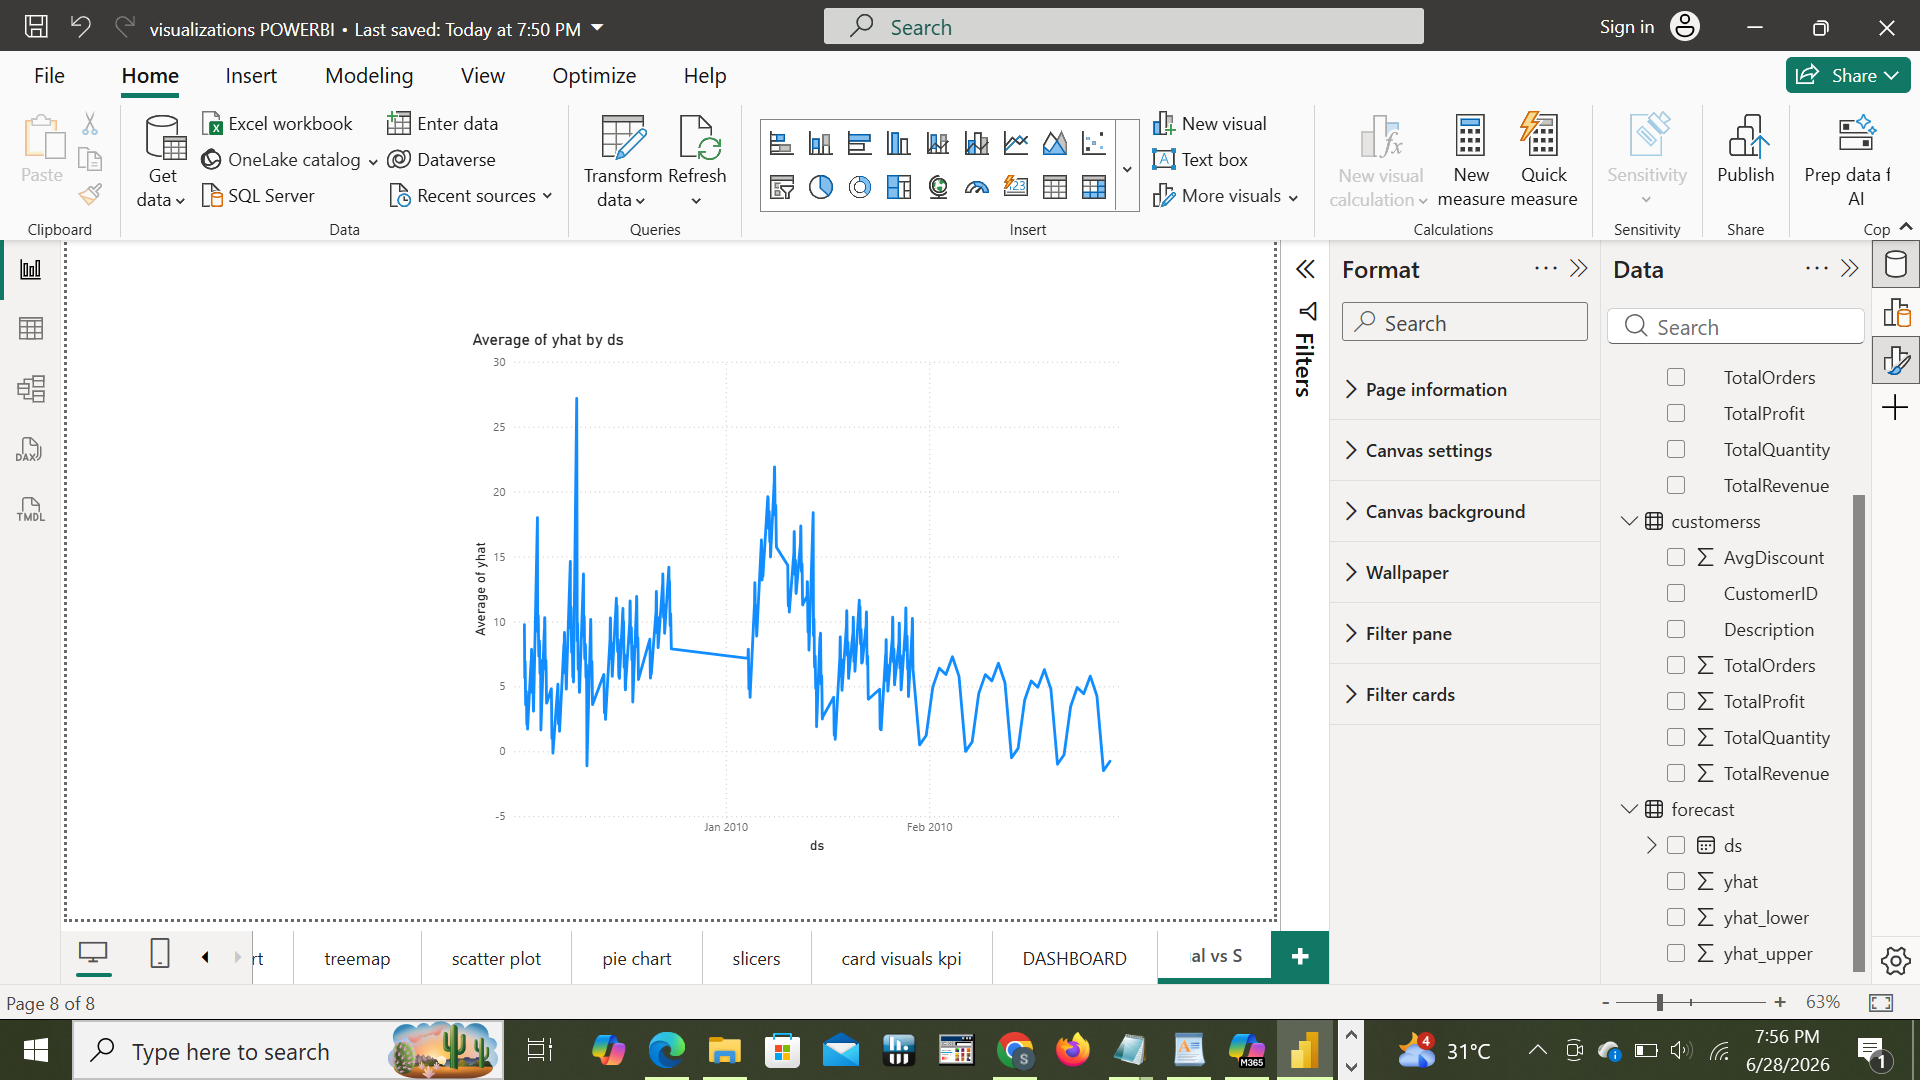

The dashboard page shown, as its layout file describes it:
{"tool":"powerbi","page":{"name":"Page 1","canvas":[1280,720],"ordinal":7},"visuals":[{"type":"lineChart","fields":{"Category":["forecast.ds"],"Y":["Avg(forecast.yhat)"]},"box":[424.7,95.4,711,558.3],"z":0}]}

Visuals, with their boxes on the page's 1280x720 design canvas (x1, y1, x2, y2). These are canvas units, not pixel positions in the 1920x1080 screenshot, which may show the page scaled, cropped or inside an application window:
lineChart - forecast.ds x Avg(forecast.yhat): left=425, top=95, right=1136, bottom=654
